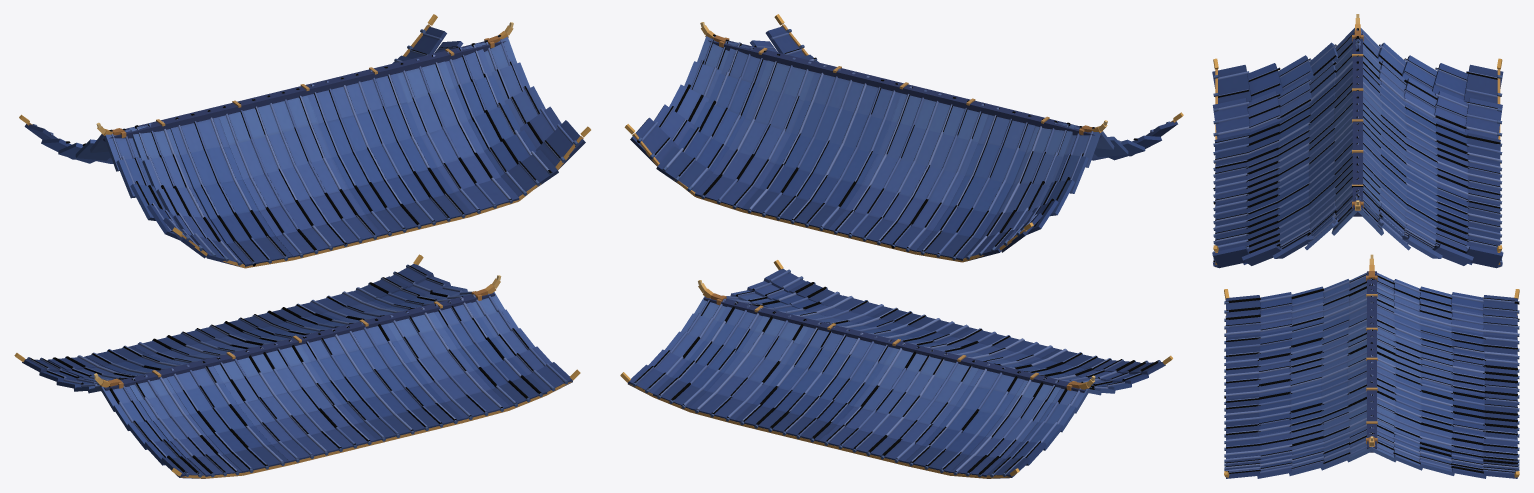
The model's file is Trophy_Hall_Roofs.glb.
The picture shows the model from 3 angles, left to right: view 1: azimuth 30°, elevation 25°; view 2: azimuth 150°, elevation 25°; view 3: azimuth 270°, elevation 25°; orthographic projection. The views are drawn at different scales.
Visible parts, largest first — view 1: Trophy_Hall_Roofs; view 2: Trophy_Hall_Roofs; view 3: Trophy_Hall_Roofs.
Boxes of the visible parts, x1,y1,x2,y2 form: Trophy_Hall_Roofs: (14,14,590,478); Trophy_Hall_Roofs: (620,14,1183,478); Trophy_Hall_Roofs: (1212,14,1519,478).
Size of the model in its own units: 46.11 by 33.66 by 31.73.
Materials: 1 (1 with a texture image).
